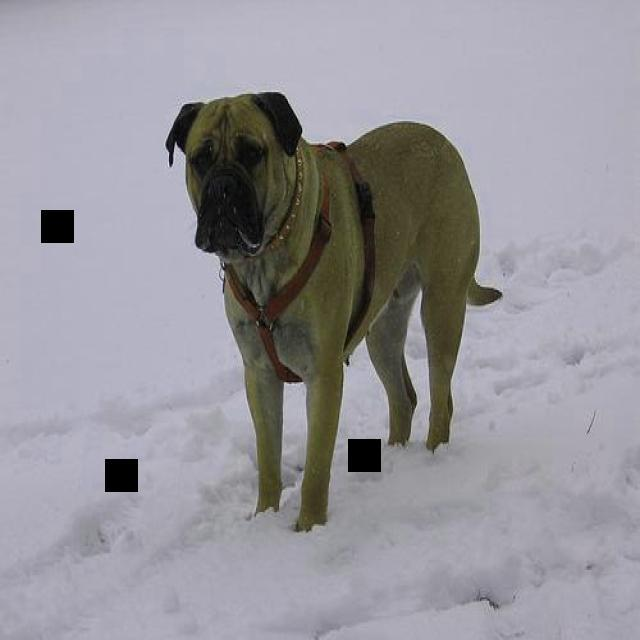adult_dog: (166, 93, 504, 534)
